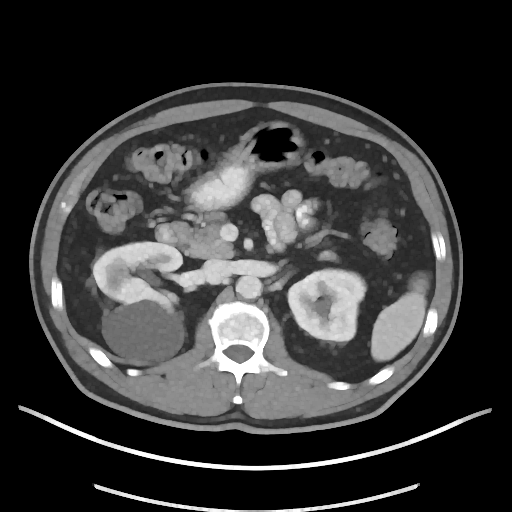Lesion: (97, 293, 185, 370)
